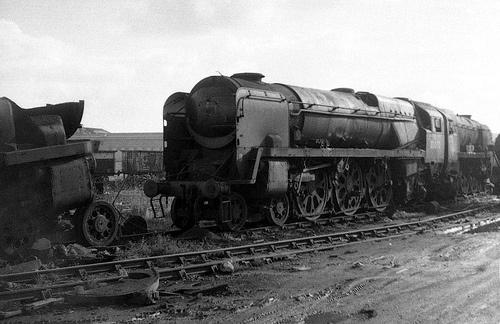train: (153, 69, 496, 243)
